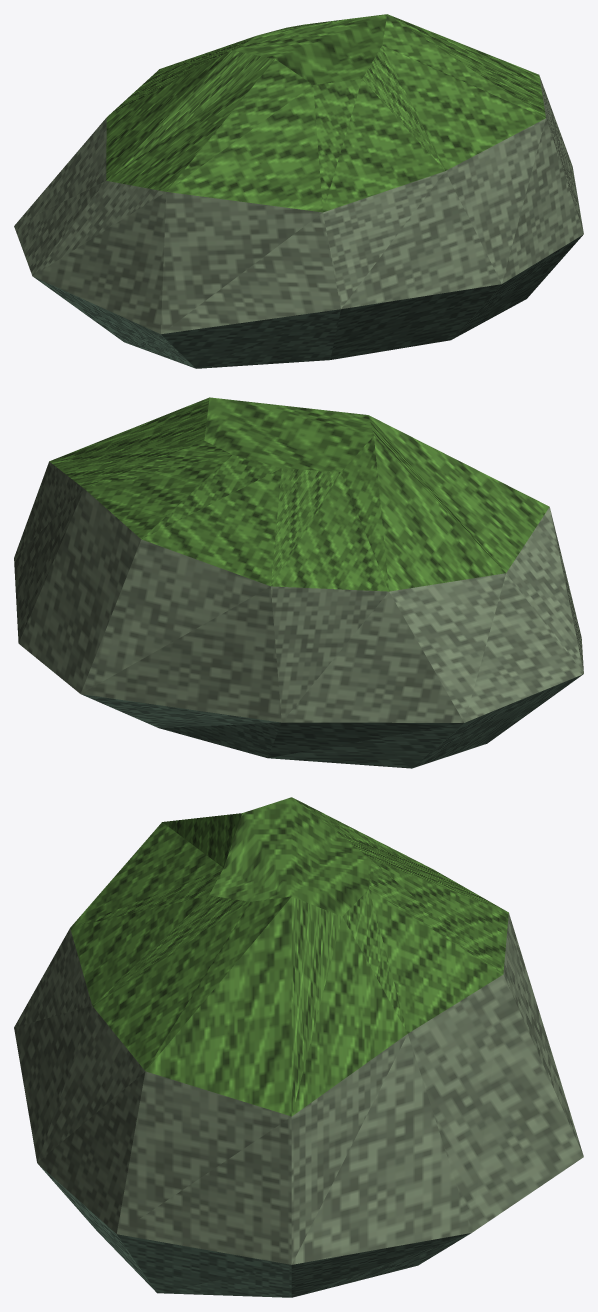
The model's file is SM_Woodland_MossRock_A.fbx.
3 renders of one model, top to bottom at view 1: azimuth 30°, elevation 25°; view 2: azimuth 150°, elevation 25°; view 3: azimuth 270°, elevation 25°, orthographic. The views are drawn at different scales.
Parts seen in each view (by area): view 1: SM_Woodland_MossRock_A; view 2: SM_Woodland_MossRock_A; view 3: SM_Woodland_MossRock_A.
Part boxes in pixels (box(x1,y1,x2,y2)): SM_Woodland_MossRock_A: box(14, 14, 583, 368); SM_Woodland_MossRock_A: box(14, 397, 583, 768); SM_Woodland_MossRock_A: box(14, 797, 583, 1297).
Size of the model in its own units: 200 by 143 by 95.22.
Materials: 1 (1 with a texture image).
